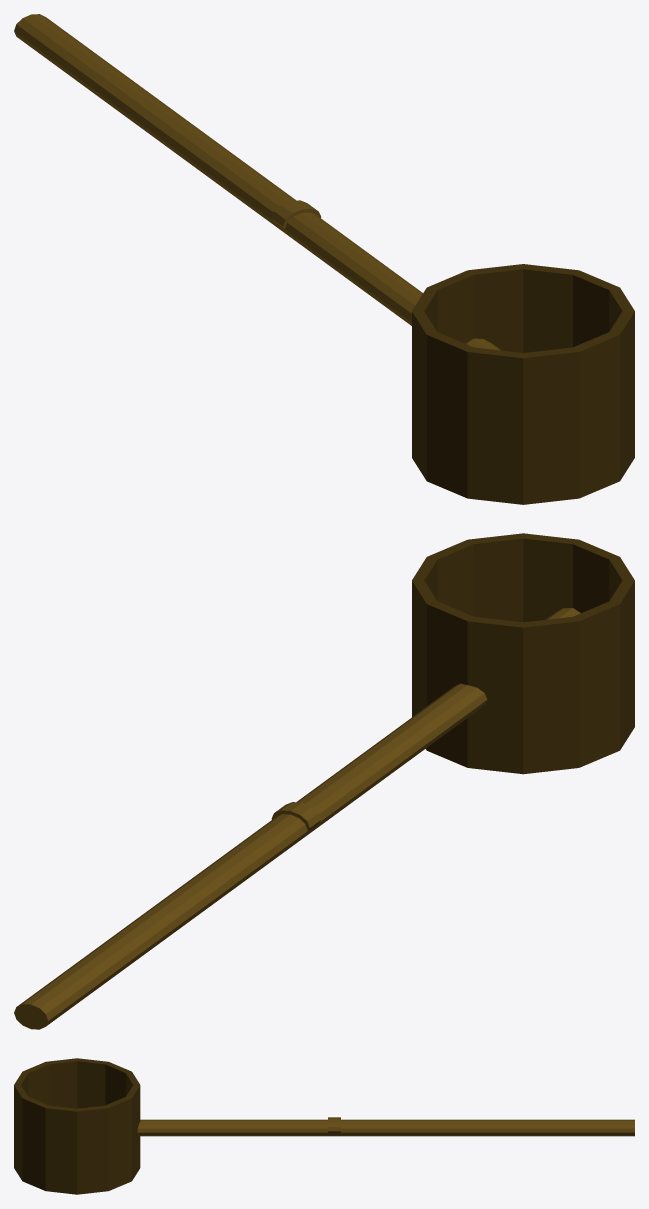
The model's file is TT_Japanese_water_Ladle.fbx.
3 renders of one model, top to bottom at view 1: azimuth 30°, elevation 25°; view 2: azimuth 150°, elevation 25°; view 3: azimuth 270°, elevation 25°, orthographic. The views are drawn at different scales.
Parts seen in each view (by area): view 1: Japanese_water_Ladle; view 2: Japanese_water_Ladle; view 3: Japanese_water_Ladle.
Part boxes in pixels (box(x1,y1,x2,y2)): Japanese_water_Ladle: box(14, 14, 634, 504); Japanese_water_Ladle: box(14, 533, 634, 1029); Japanese_water_Ladle: box(14, 1058, 634, 1194).
Bounding box in the file's own units: 2 × 1.45 × 9.82.
